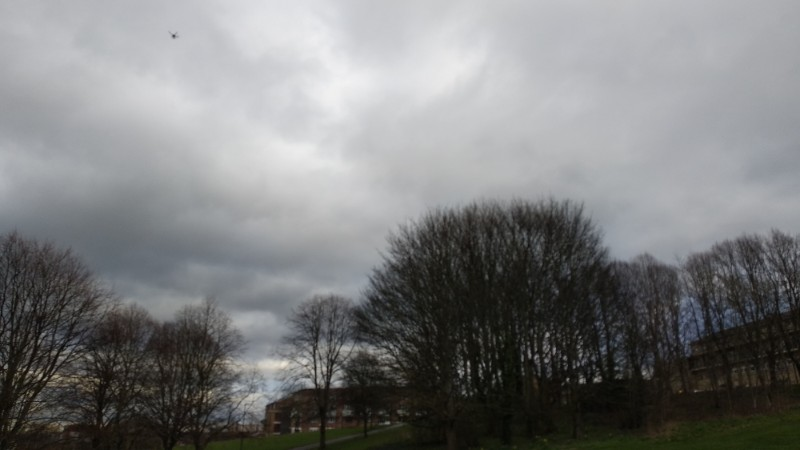drone: (168, 31, 179, 39)
